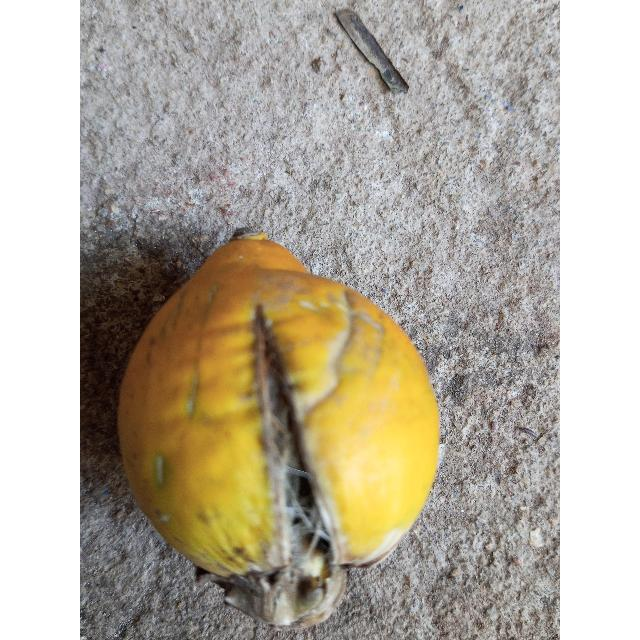damaged: (117, 234, 440, 629)
